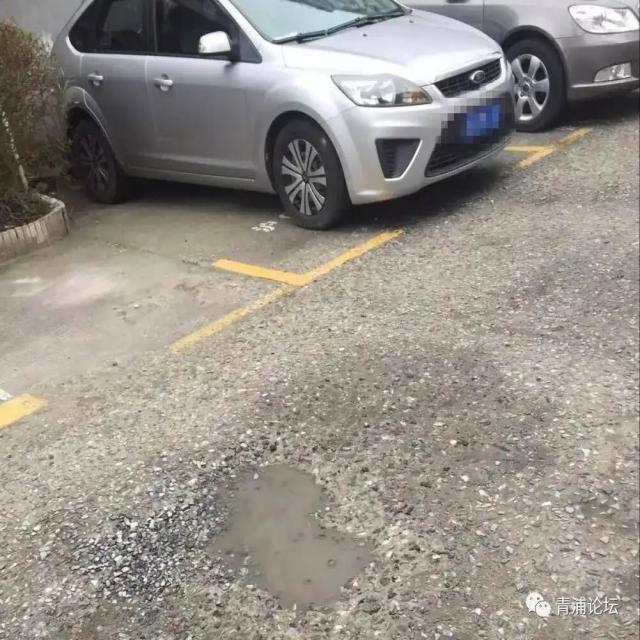Pothole: (183, 460, 385, 614)
